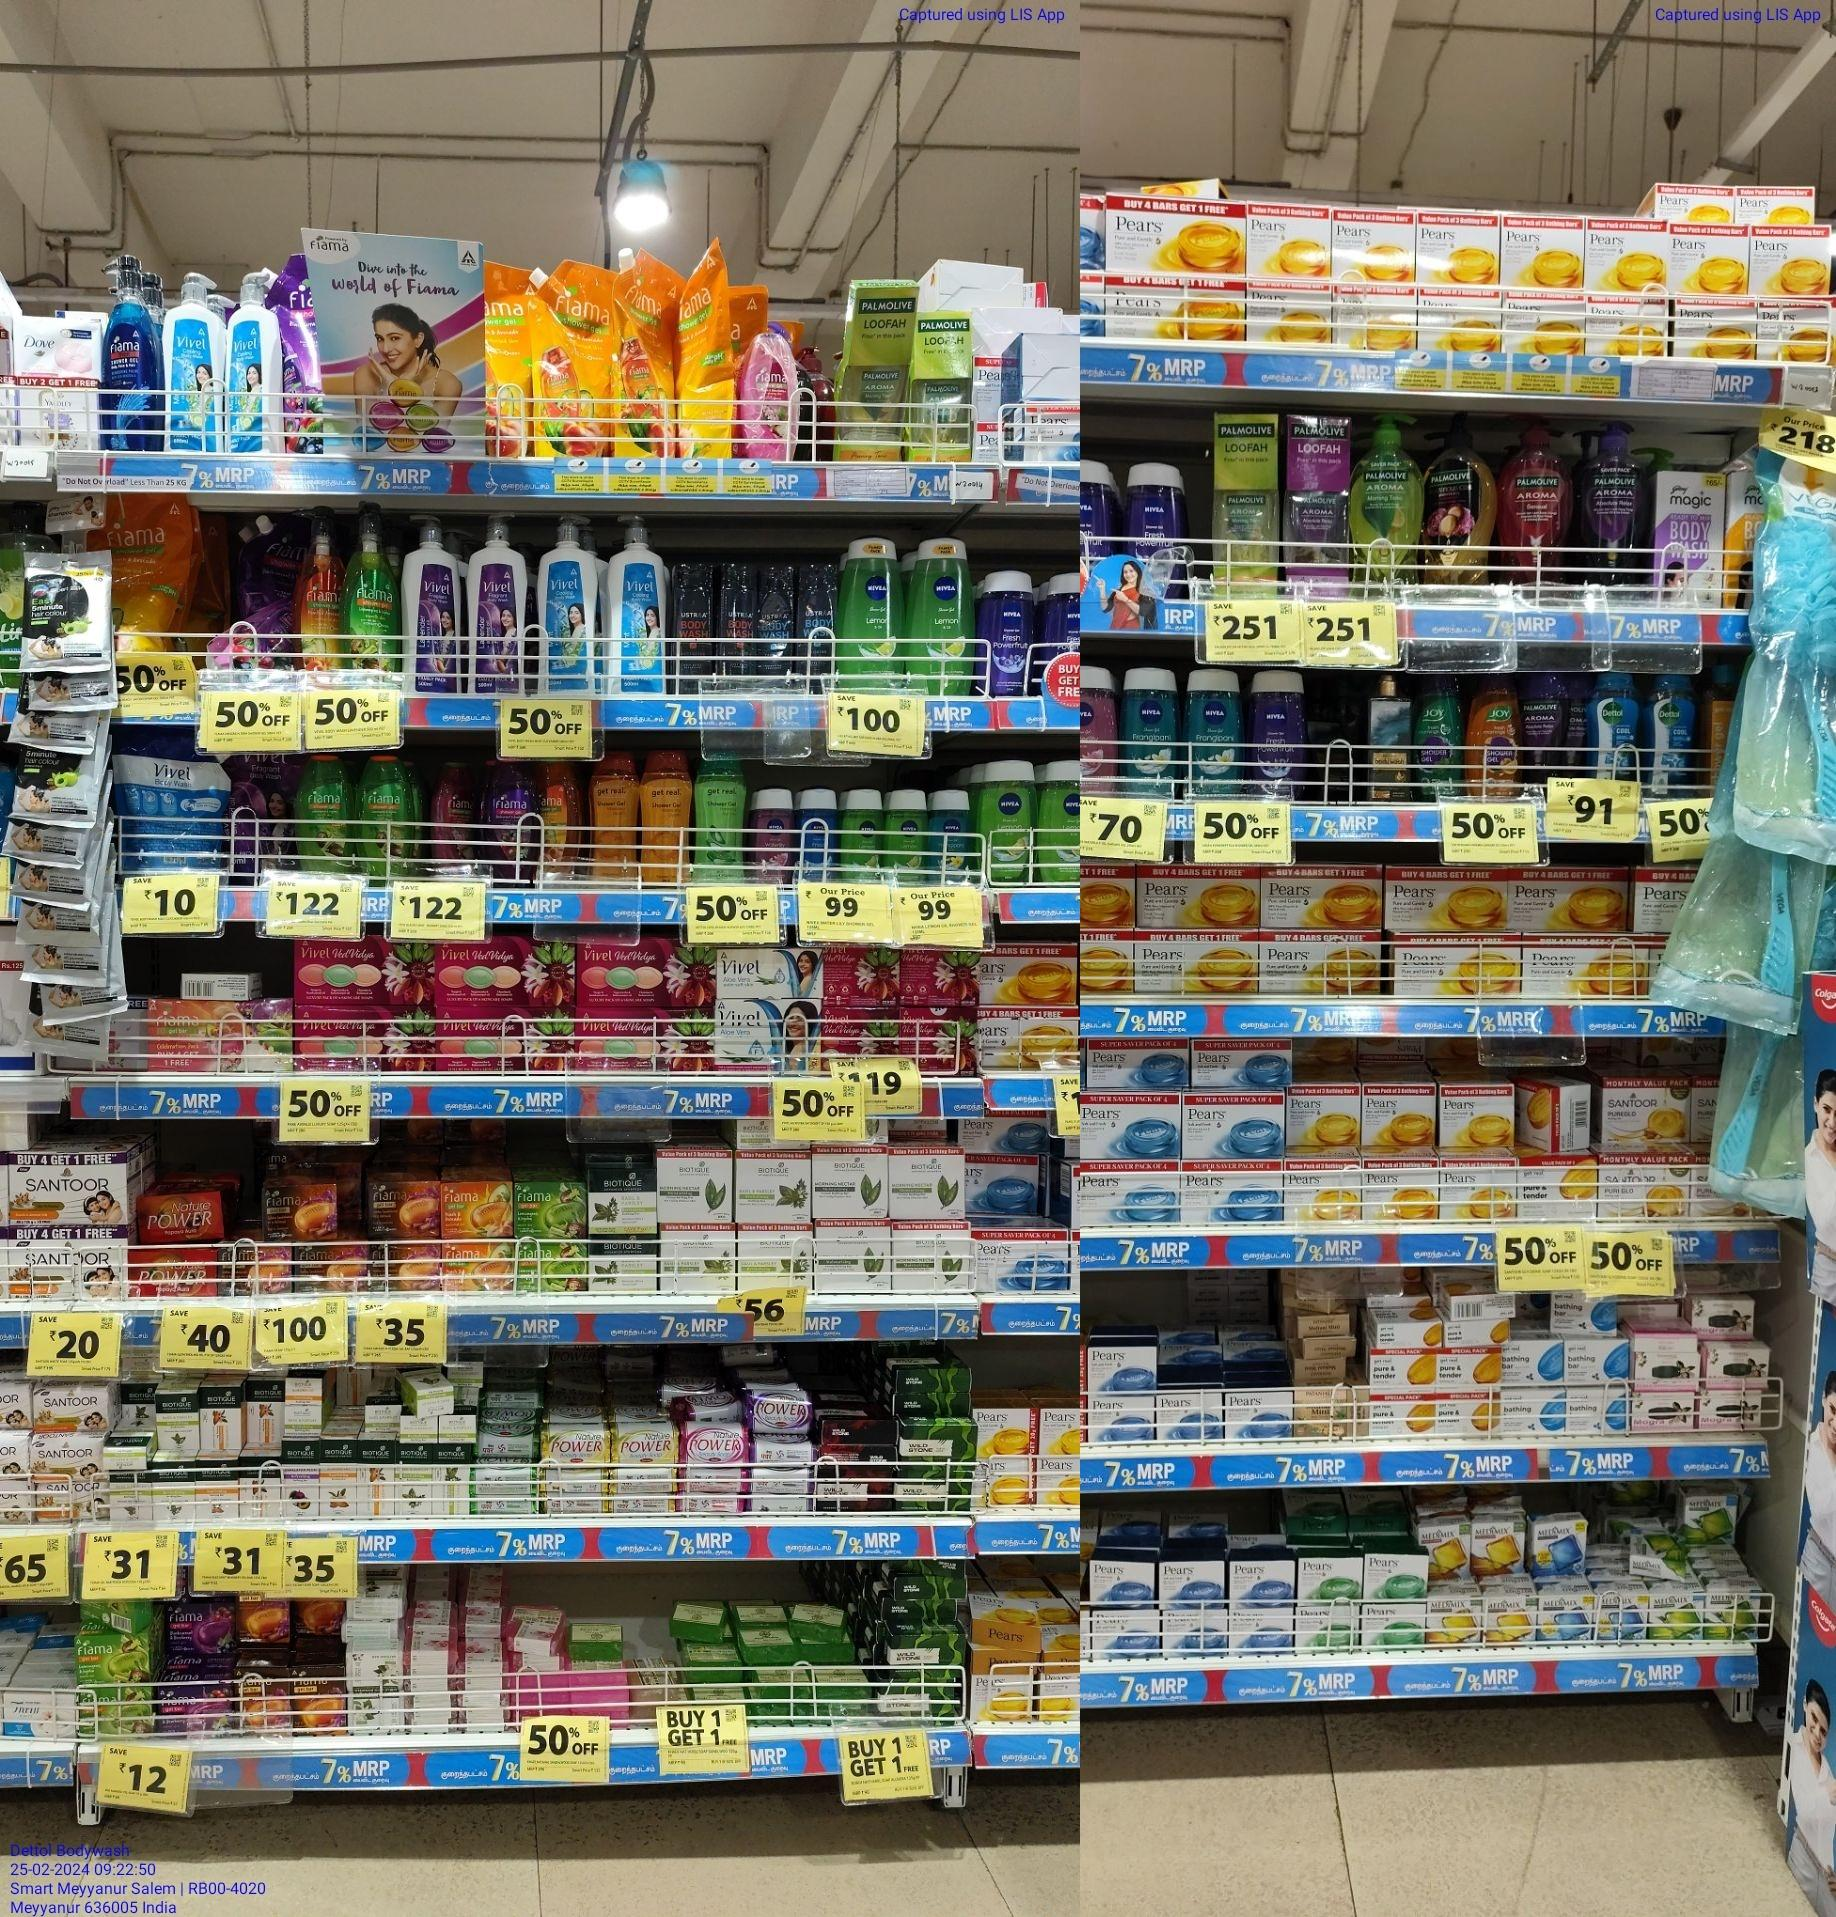Dettol_Bodywash_Cool: (1651, 674, 1703, 794), (1593, 671, 1639, 784)
Fiama_Shower_Gel_Lemongrass_and_Jojoba_250ML: (361, 750, 416, 876), (296, 755, 352, 873)
Fiama_Shower_Gel_Patchouli_and_Macadamia_250ML: (436, 753, 477, 861)
Fiama_Shower_Gel_Peach_and_Avocado_250ML: (539, 762, 578, 873)
Get_Real_Shower_Gel_Moisturising_Glycerin_300ML: (640, 750, 693, 881), (590, 750, 638, 878)
Joy_Shower_Gel_Mandarin_and_Lemongrass_250ML: (1472, 673, 1521, 794)
Joy_Shower_Gel_Mint_and_Eucalyptus_250ML: (1417, 674, 1461, 798)
Nivea_Shower_Gel_Frangipani_and_Oil_250ML: (1128, 668, 1176, 796), (1189, 669, 1239, 792)
Nivea_Shower_Gel_Fresh_Powerfruit_250ML: (1129, 464, 1189, 597), (1253, 673, 1304, 798), (986, 572, 1037, 695)
Nivea_Shower_Gel_Lemon_and_Oil_250ML: (842, 537, 903, 690), (915, 536, 974, 691), (984, 762, 1037, 881)
